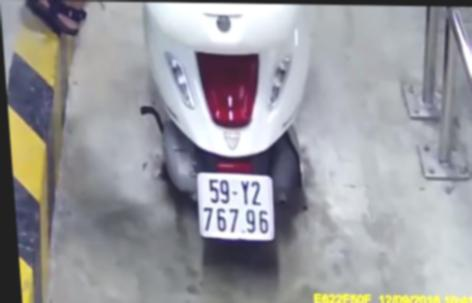License_Plate: (189, 171, 286, 245)
